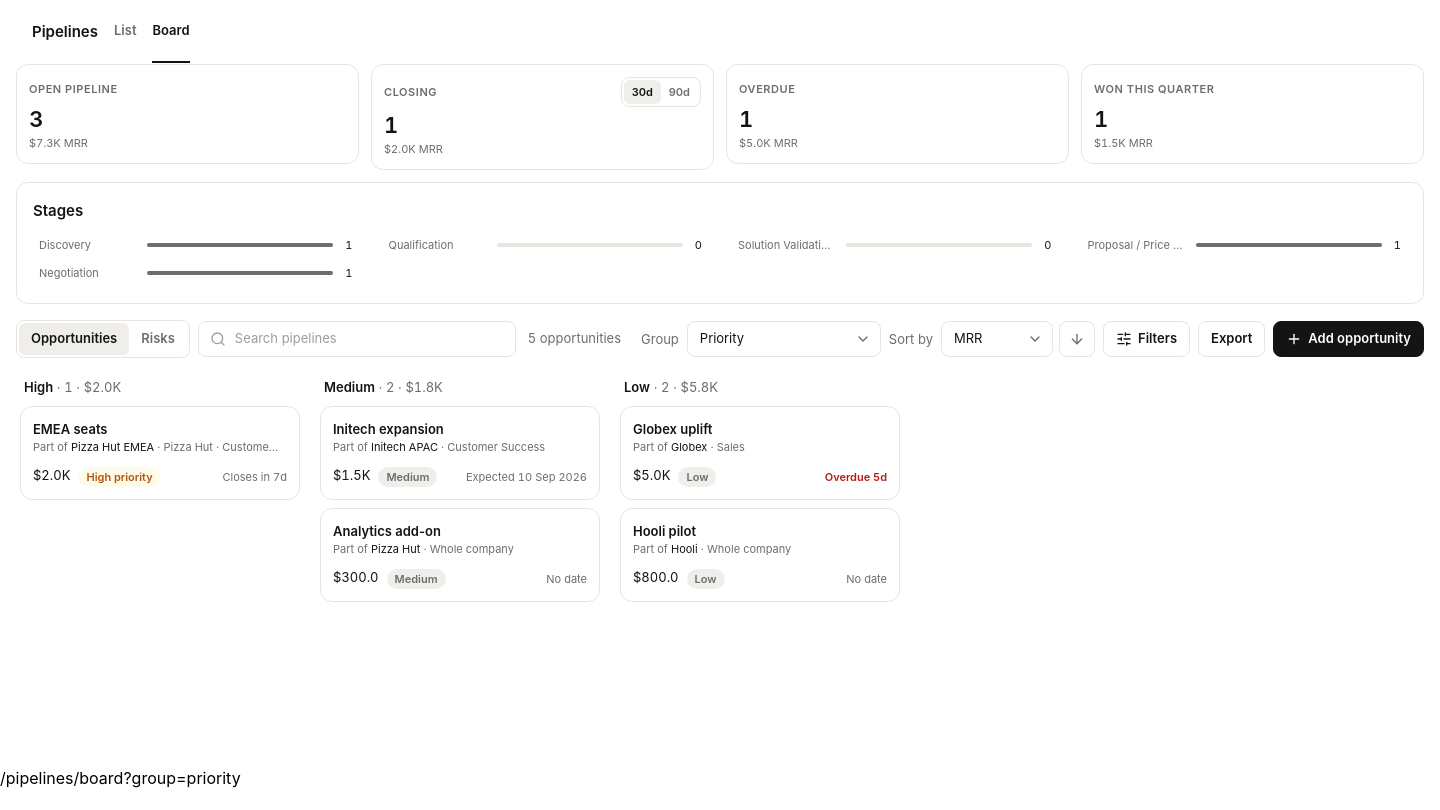
Scenario: Pipelines board › offers no moves when grouped by something else, and opens a card in its form
Click the button "EMEA seats". click: x=70, y=428
box: [33,418,108,438]
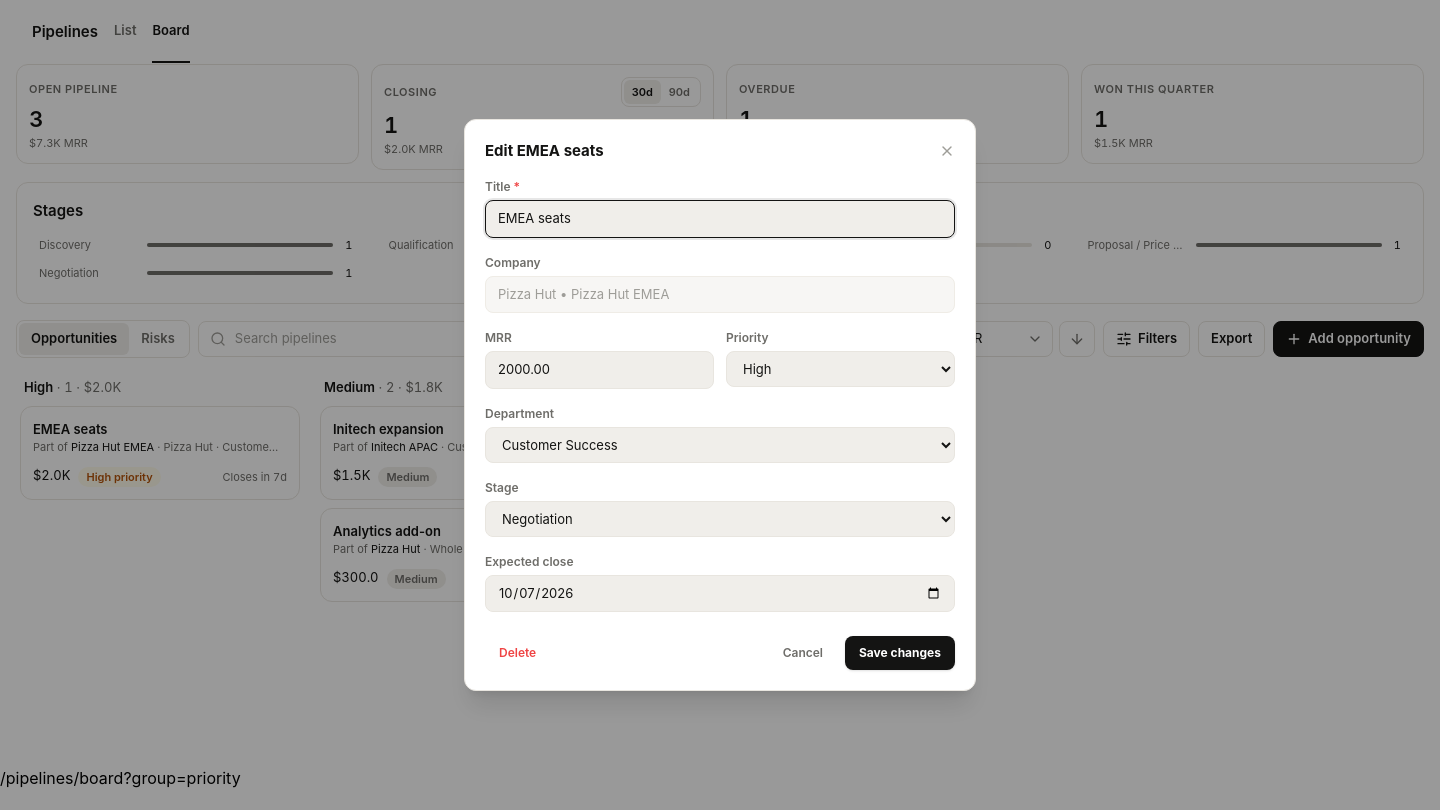
Result: the heading "Edit EMEA seats" is shown at [485,140,604,162]
